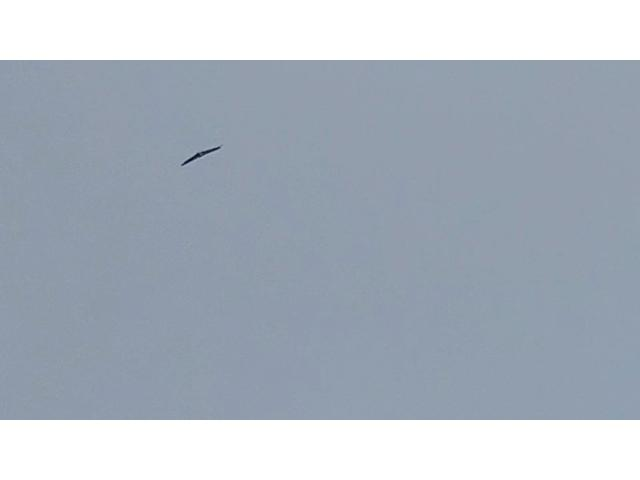Anti-Drone: (180, 143, 222, 169)
